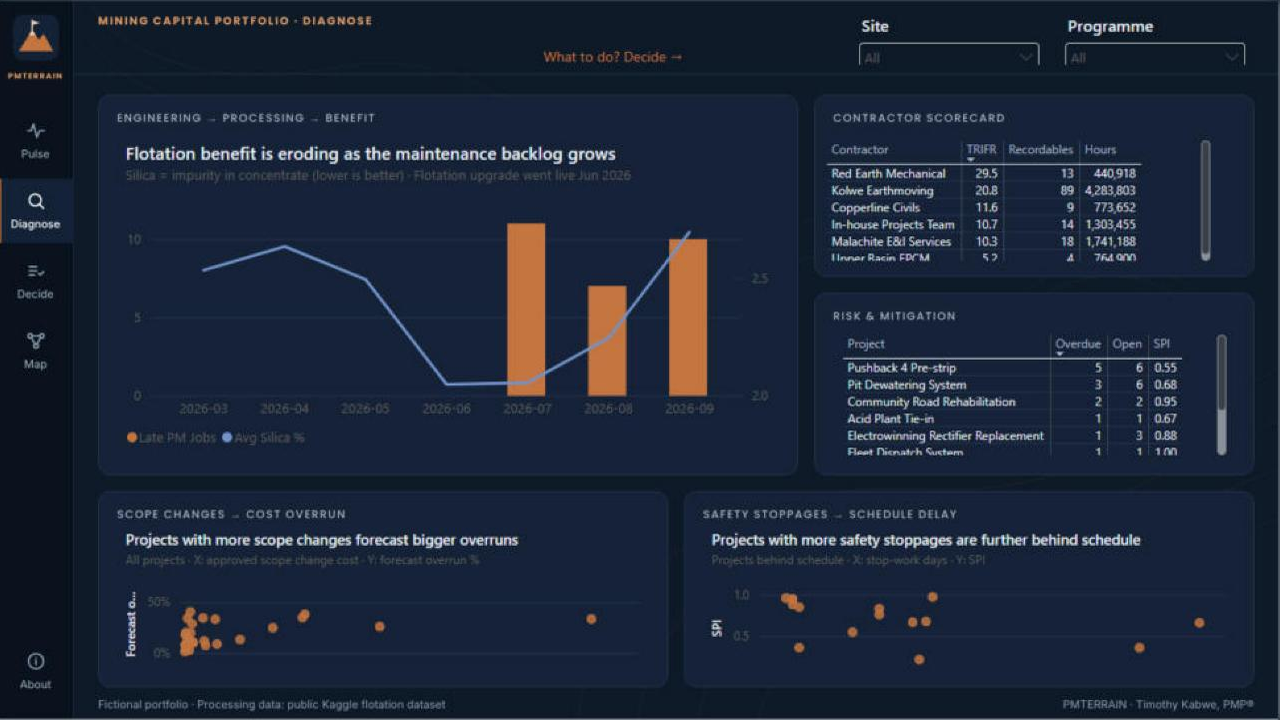

What the dashboard file says about the page in this screenshot:
{"tool":"powerbi","page":{"name":"Diagnose","canvas":[1280,720],"ordinal":1},"visuals":[{"type":"lineStackedColumnComboChart","title":"Flotation benefit is eroding as the maintenance backlog grows","fields":{"Category":["Calendar.YearMonth"],"Y":["Key_MeasuresPMO.Late PM Jobs"],"Y2":["Key_MeasuresPMO.Avg Silica %"]},"box":[112,126,676,340],"z":0},{"type":"tableEx","fields":{"Values":["Dim_Contractor.ContractorName","Key_MeasuresPMO.TRIFR","Key_MeasuresPMO.Recordable Injuries","Key_MeasuresPMO.Total Man-Hours"]},"box":[812.4,126.2,416,150],"z":1000},{"type":"tableEx","fields":{"Values":["Dim_Project.ProjectName","Key_MeasuresPMO.Overdue Mitigations","Key_MeasuresPMO.Open Mitigations","Key_MeasuresPMO.SPI"]},"box":[828,320,416,150],"z":2000},{"type":"scatterChart","title":"Projects with more scope changes forecast bigger overruns","fields":{"Category":["Dim_Project.ProjectName"],"X":["Key_MeasuresPMO.Scope Change Cost"],"Y":["Key_MeasuresPMO.Forecast Overrun %"]},"box":[112,514,546,166],"z":3000},{"type":"scatterChart","title":"Projects with more safety stoppages are further behind schedule","fields":{"Category":["Dim_Project.ProjectName"],"X":["Key_MeasuresPMO.Stop-Work Days"],"Y":["Key_MeasuresPMO.SPI"]},"box":[698,514,546,166],"z":4000},{"type":"actionButton","box":[0,110,76,64],"z":5000},{"type":"actionButton","box":[0,180,76,64],"z":6000},{"type":"actionButton","box":[0,255.8,76,64],"z":7000},{"type":"actionButton","box":[0,640,76,64],"z":8000},{"type":"slicer","fields":{"Values":["Dim_Site.SiteName"]},"box":[856,14,190,50],"z":9000},{"type":"slicer","fields":{"Values":["Dim_Project.Programme"]},"box":[1062,14,190,50],"z":10000},{"type":"actionButton","box":[0,320,76,64],"z":11000},{"type":"actionButton","box":[520,40,190,28],"z":12000}]}

Visuals, with their boxes on the page's 1280x720 design canvas (x1, y1, x2, y2). These are canvas units, not pixel positions in the 1280x720 screenshot, which may show the page scaled, cropped or inside an application window:
"Flotation benefit is eroding as the maintenance backlog grows" lineStackedColumnComboChart: {"left": 112, "top": 126, "right": 788, "bottom": 466}
tableEx - Dim_Contractor.ContractorName x Key_MeasuresPMO.TRIFR: {"left": 812, "top": 126, "right": 1228, "bottom": 276}
tableEx - Dim_Project.ProjectName x Key_MeasuresPMO.Overdue Mitigations: {"left": 828, "top": 320, "right": 1244, "bottom": 470}
"Projects with more scope changes forecast bigger overruns" scatterChart: {"left": 112, "top": 514, "right": 658, "bottom": 680}
"Projects with more safety stoppages are further behind schedule" scatterChart: {"left": 698, "top": 514, "right": 1244, "bottom": 680}
actionButton: {"left": 0, "top": 110, "right": 76, "bottom": 174}
actionButton: {"left": 0, "top": 180, "right": 76, "bottom": 244}
actionButton: {"left": 0, "top": 256, "right": 76, "bottom": 320}
actionButton: {"left": 0, "top": 640, "right": 76, "bottom": 704}
slicer - Dim_Site.SiteName: {"left": 856, "top": 14, "right": 1046, "bottom": 64}
slicer - Dim_Project.Programme: {"left": 1062, "top": 14, "right": 1252, "bottom": 64}
actionButton: {"left": 0, "top": 320, "right": 76, "bottom": 384}
actionButton: {"left": 520, "top": 40, "right": 710, "bottom": 68}
